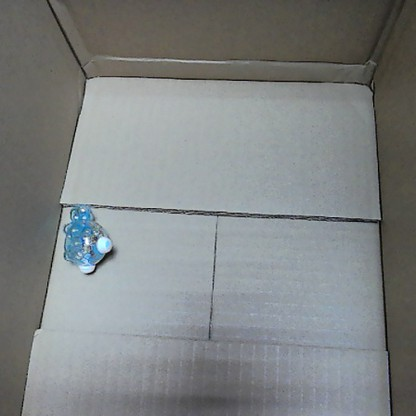bluefish: (53, 205, 113, 277)
